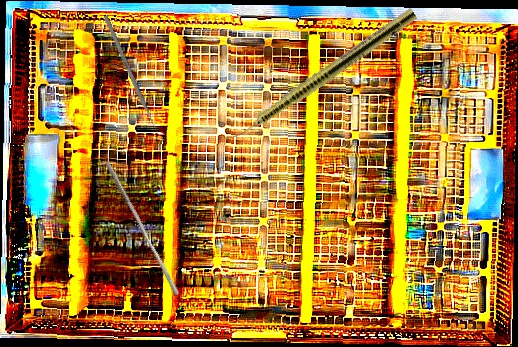Handpiece: (221, 5, 419, 150)
Pusher: (99, 160, 185, 297), (102, 15, 162, 138)
